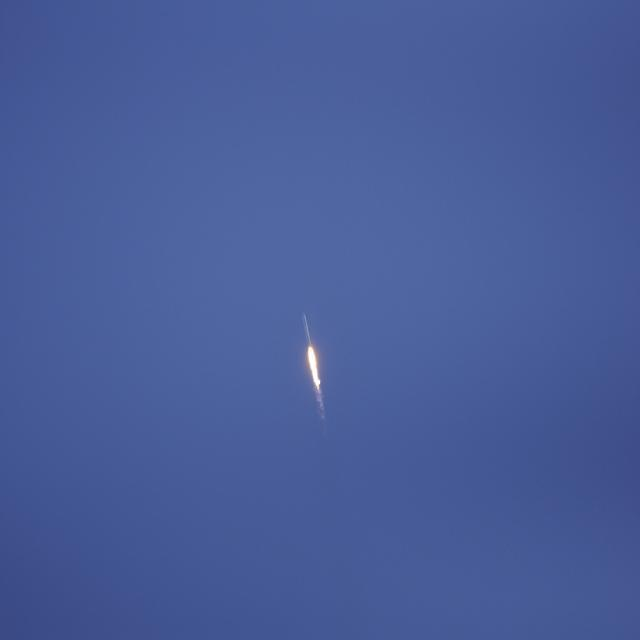missile: (302, 310, 315, 349)
